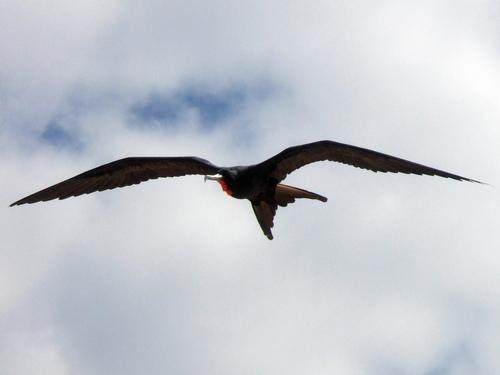bird: (8, 139, 493, 241)
